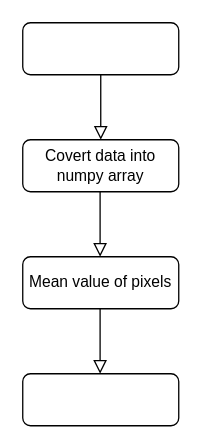
Some shapes in this 202 by 448 pixel diagram are drawn without their labels. Each missing label, with the centre of its shape:
"Apply filters" goes at (x=100, y=399).
"Import Data" goes at (x=100, y=48).
